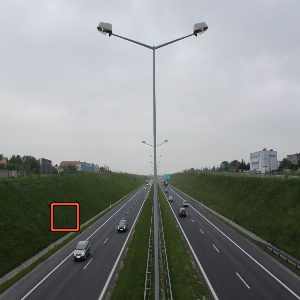square: (49, 201, 81, 232)
